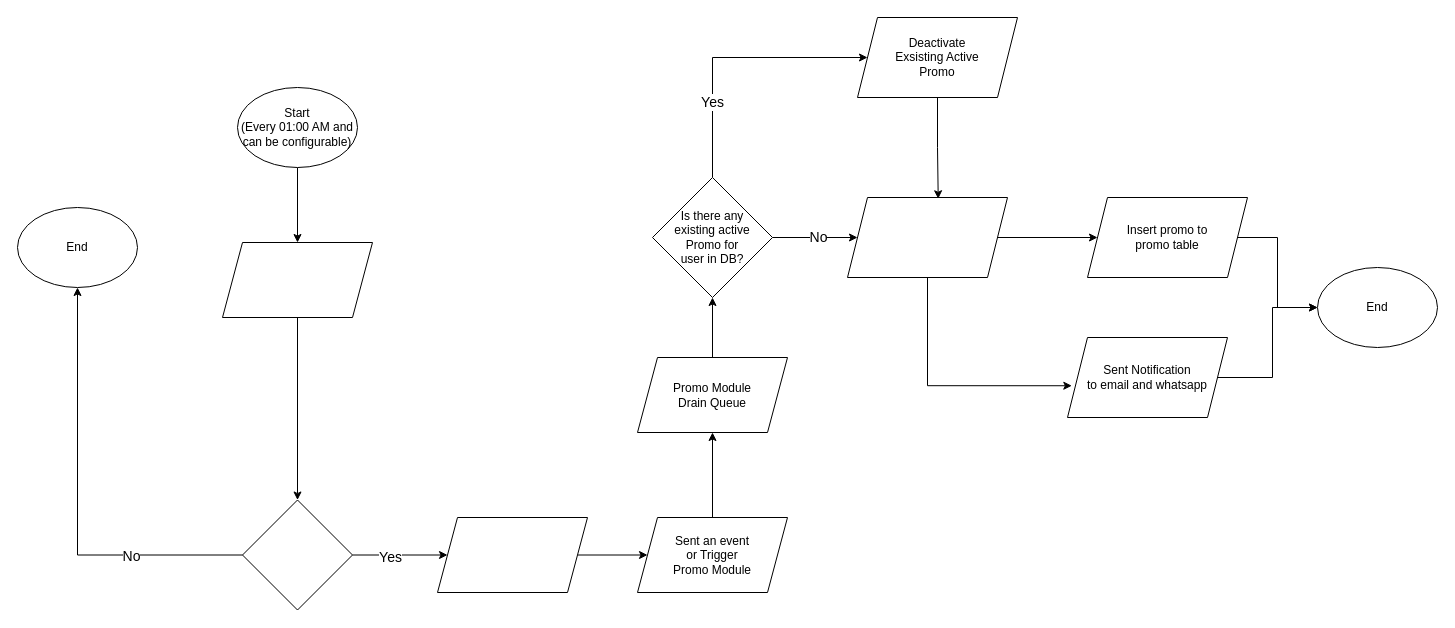
Some shapes in this 1455 by 628 pixel diagram are drawn without their labels. The box of each missing label's shape, as (x1, y1, x2, y2) in pixels:
Generate unique id for user promo valid for one day: (846, 196, 1008, 278)
is there any birthday today?: (242, 499, 352, 610)
Scheduler Scan users table: (222, 242, 372, 318)
Store UsersInfo in Queue: (436, 516, 588, 592)
